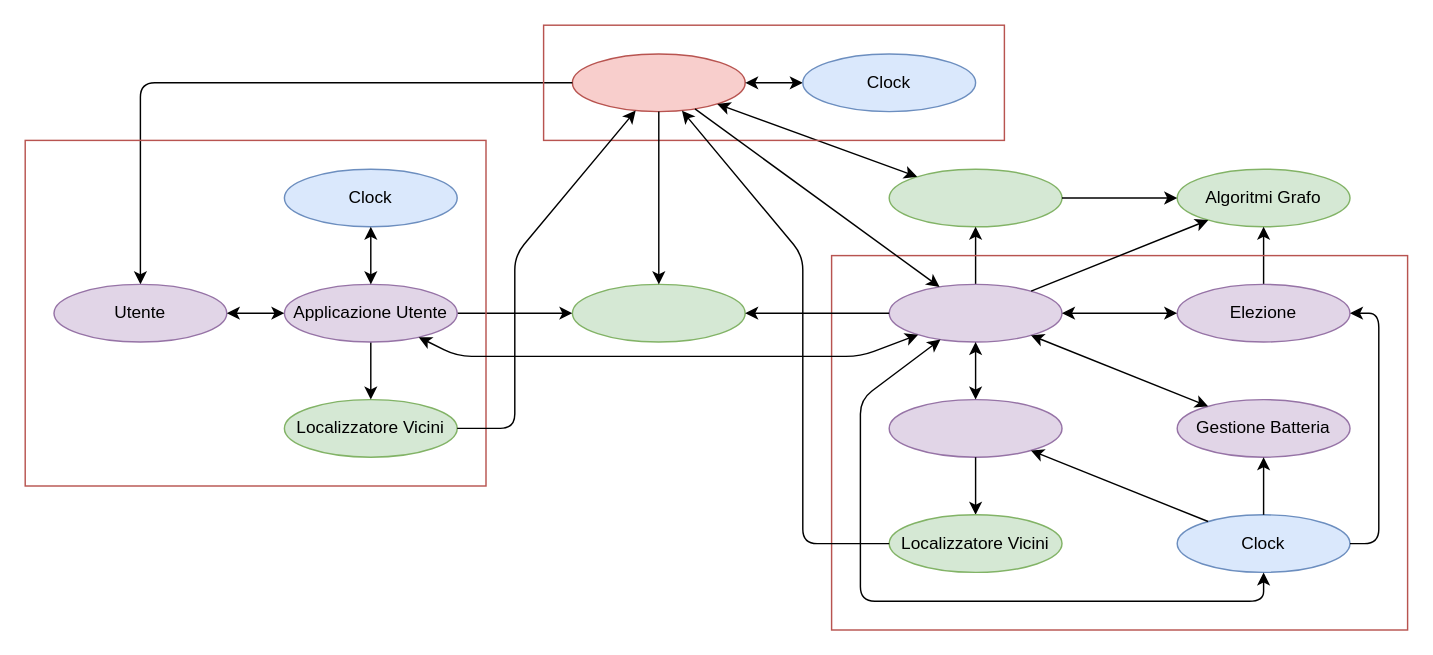
The diagram is 1433 pixels wide and 655 high, and some of its shapes have lost their labels. Here are the shapes that lost their labels. From the top down, the box of each, then its label:
(571, 53, 745, 112): Ambiente
(888, 168, 1062, 227): Mappa Città
(571, 283, 745, 342): Invio messaggi
(888, 283, 1062, 342): Ascoltatore
(888, 398, 1062, 457): Gestione Movimento
